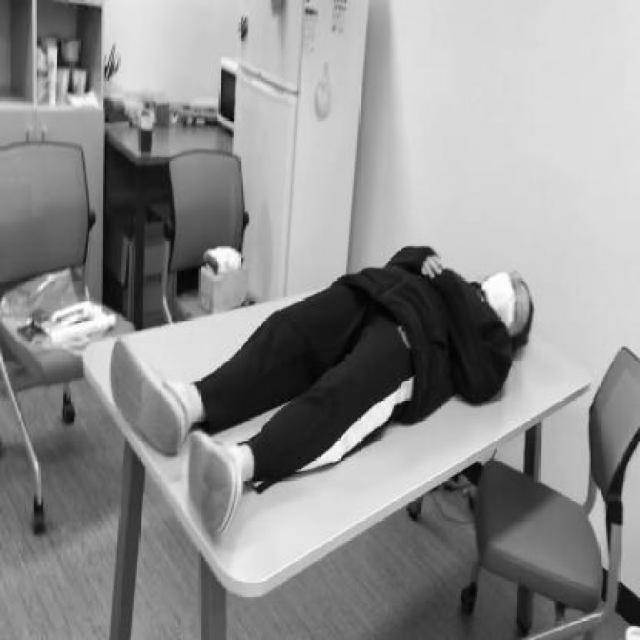person: (109, 229, 534, 520)
